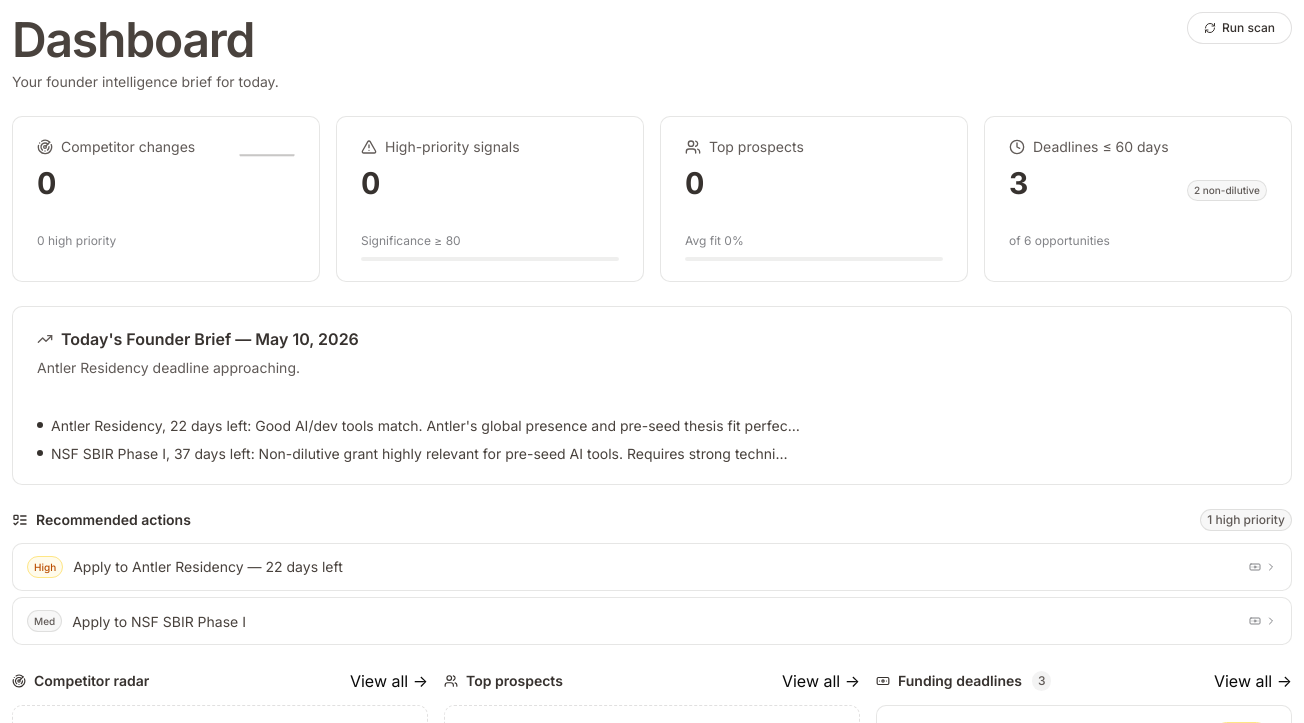
Test case: DashboardClient — error state › shows error banner when the API returns a non-OK response
The image size is (1304, 723).
What coordinates should you click on to do the following:
click the button with test id "refresh-button"
I would click on:
 (1240, 28)
Its box is [1187,12,1292,44].
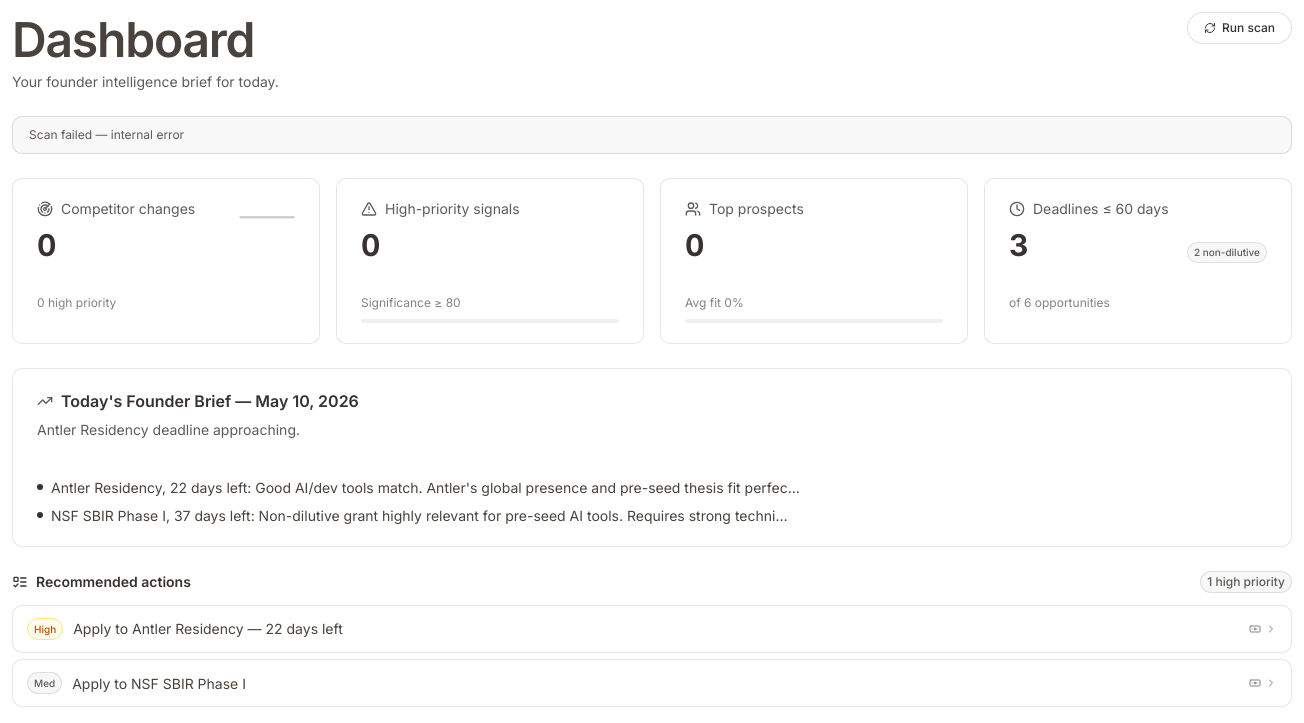
expect the text "Scan failed — internal error" is shown: met, box [12,116,1292,154]
